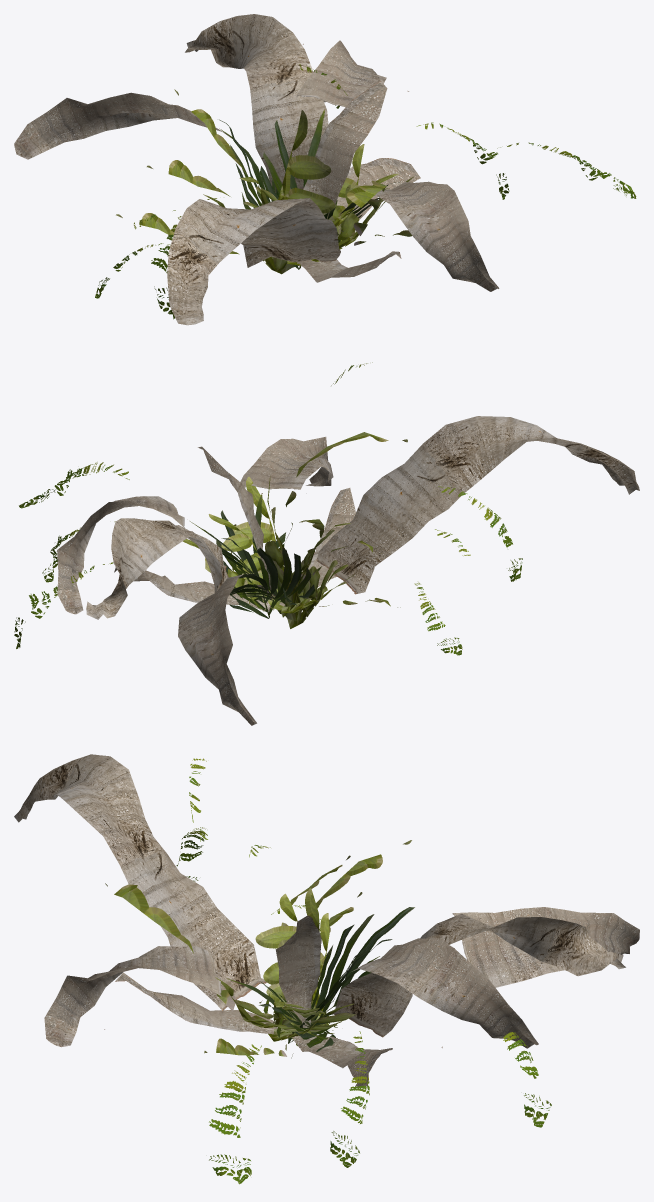
The model's file is mv_PlantB.fbx.
The picture shows the model from 3 angles, top to bottom: view 1: azimuth 30°, elevation 25°; view 2: azimuth 150°, elevation 25°; view 3: azimuth 270°, elevation 25°; orthographic projection. The views are drawn at different scales.
Parts seen in each view (by area): view 1: PlantB_LOD0; view 2: PlantB_LOD0; view 3: PlantB_LOD0.
Boxes of the visible parts, x1,y1,x2,y2 form: PlantB_LOD0: (14, 14, 636, 325); PlantB_LOD0: (14, 362, 639, 725); PlantB_LOD0: (14, 754, 639, 1184).
Size of what is drawn, in the model's own units: 98.97 by 42.77 by 89.37.
